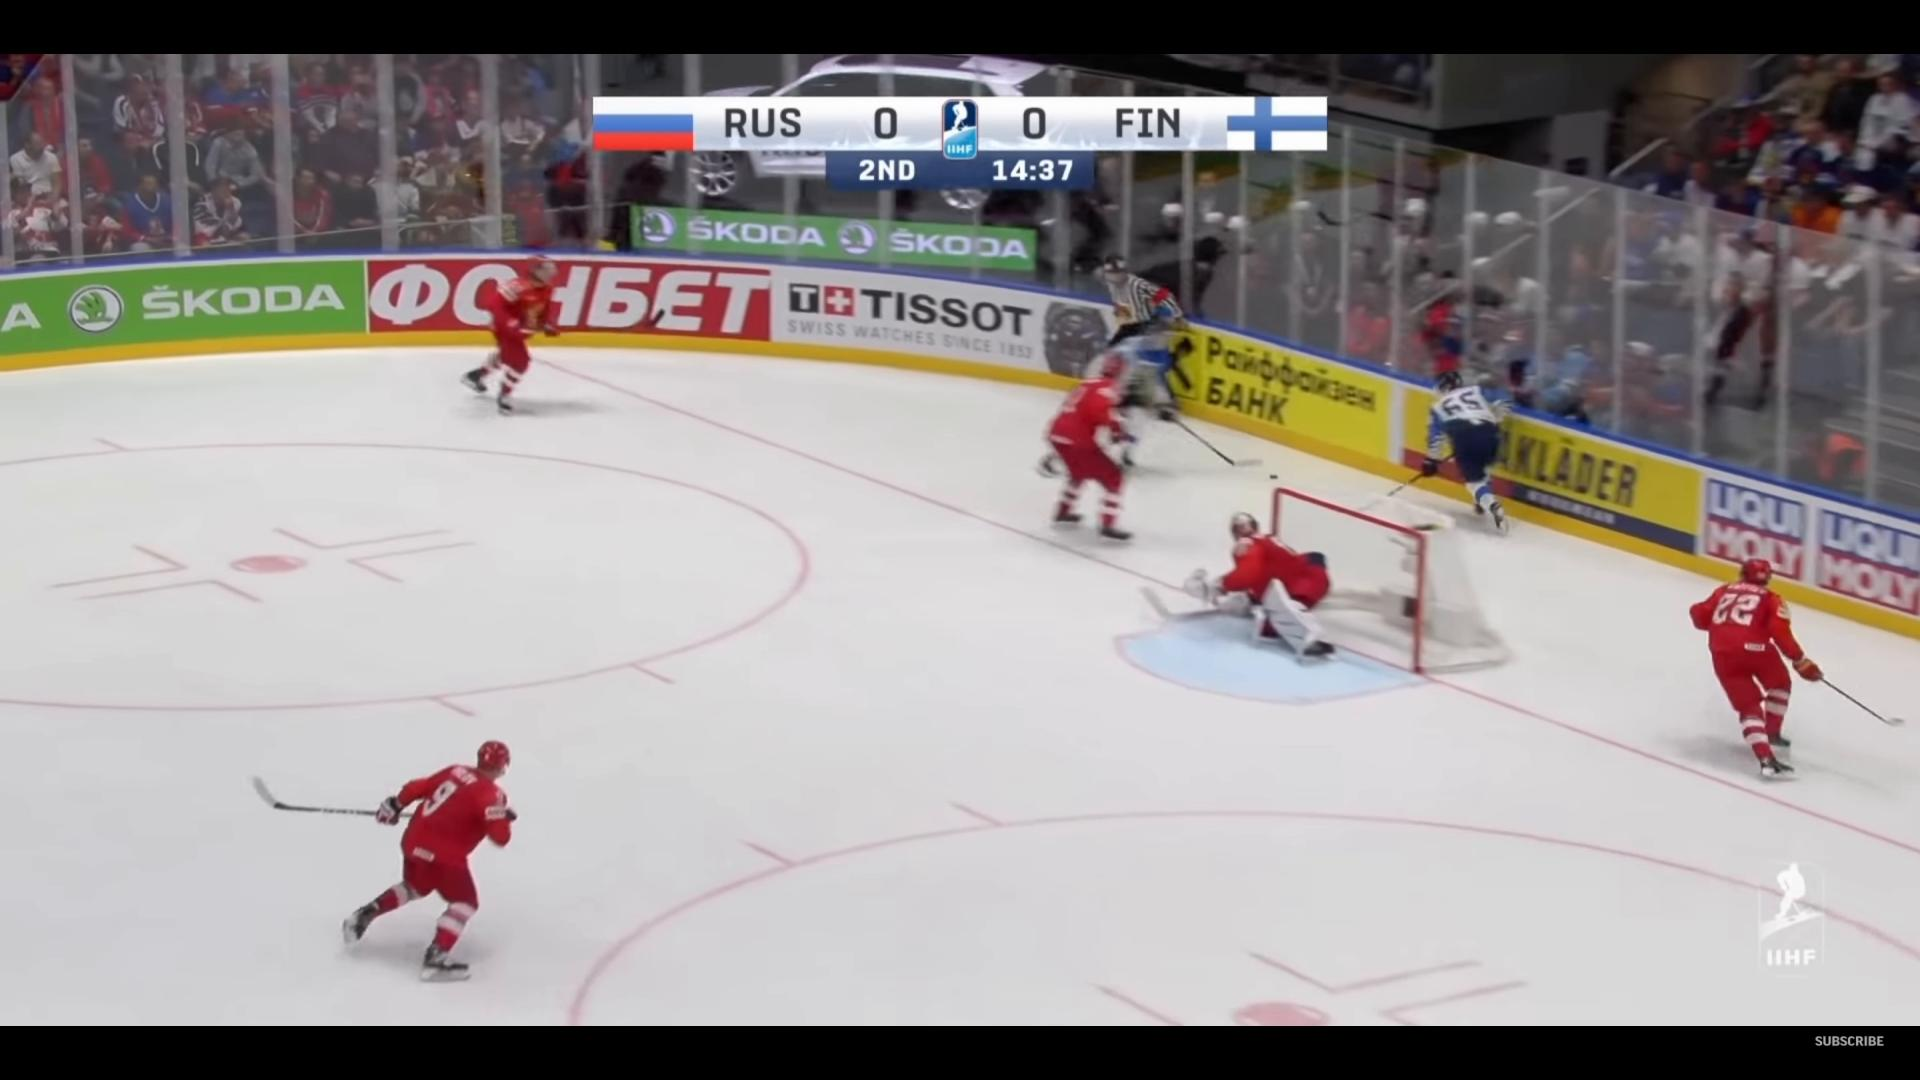puck: (1268, 473, 1278, 479)
